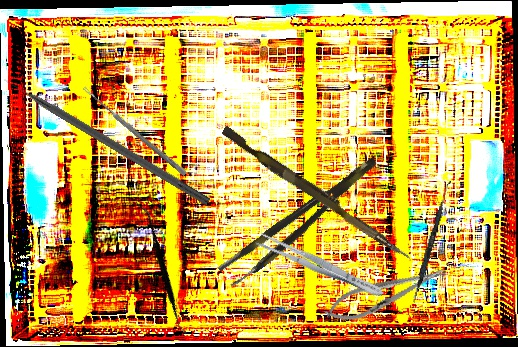Dressing Forceps: (254, 230, 387, 302)
Hook Surgical: (2, 73, 212, 206)
Needle Holder: (320, 257, 451, 330)
Pusher: (218, 125, 416, 262)
Spatula Surgical: (94, 204, 231, 335), (411, 179, 452, 304)
Surgical Spoon: (81, 85, 188, 177)
Tissue Forceps: (216, 154, 388, 290)
